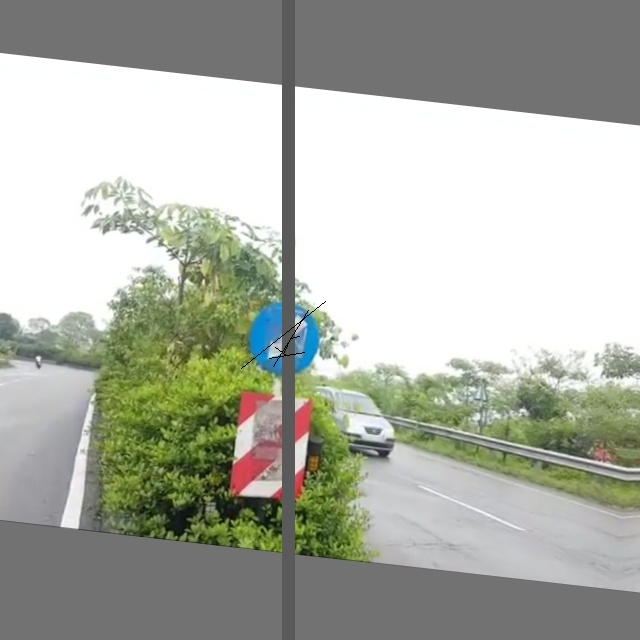Compulsory_Keep_Left: (238, 291, 332, 384)
